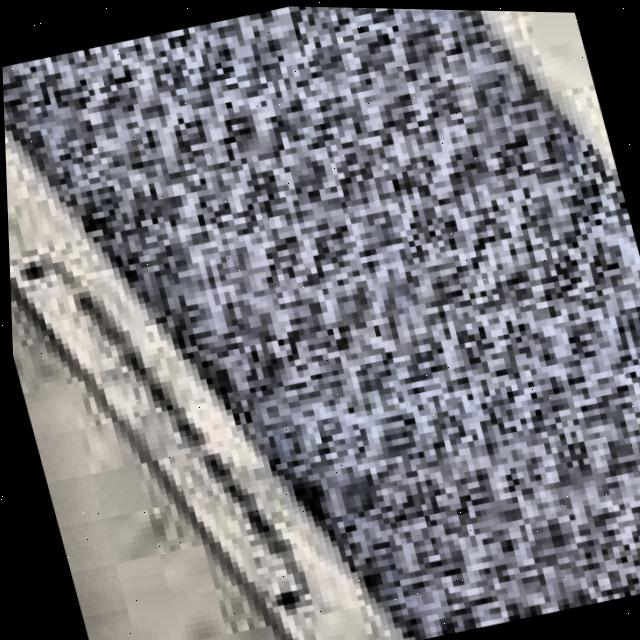paper: (2, 5, 640, 640)
